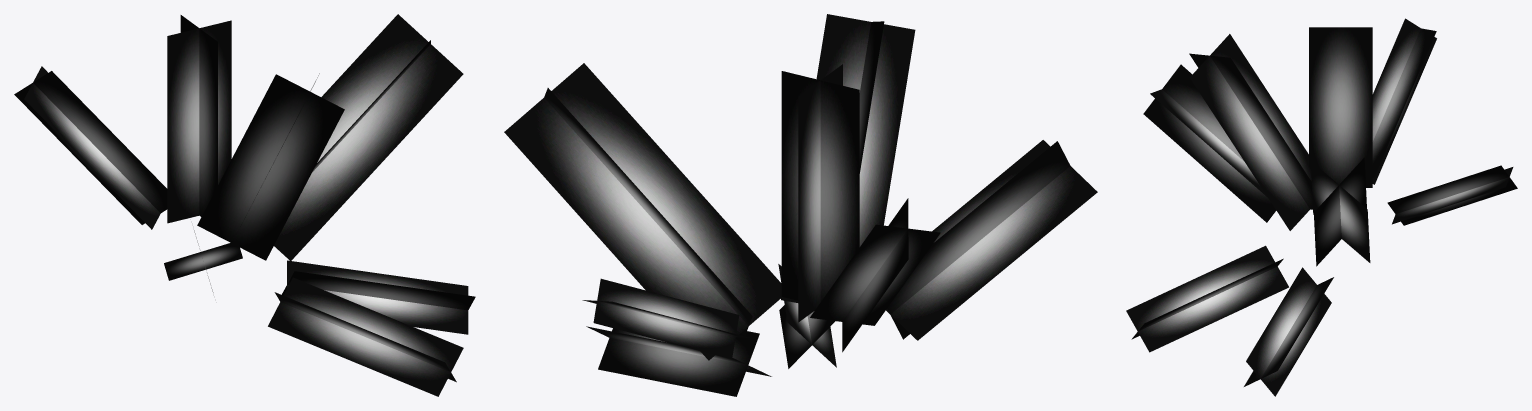
The model's file is vfx_kurp_0313.dae.
3 renders of one model, left to right at view 1: azimuth 30°, elevation 25°; view 2: azimuth 150°, elevation 25°; view 3: azimuth 270°, elevation 25°, orthographic. The views are drawn at different scales.
Visible parts, largest first — view 1: vfx_kurp_0313; view 2: vfx_kurp_0313; view 3: vfx_kurp_0313.
Boxes of the visible parts, x1,y1,x2,y2 form: vfx_kurp_0313: [14, 14, 475, 396]; vfx_kurp_0313: [504, 14, 1097, 396]; vfx_kurp_0313: [1126, 18, 1517, 396].
Size of the model in its own units: 10.01 by 10.27 by 7.99.
Materials: 1 (1 with a texture image).
